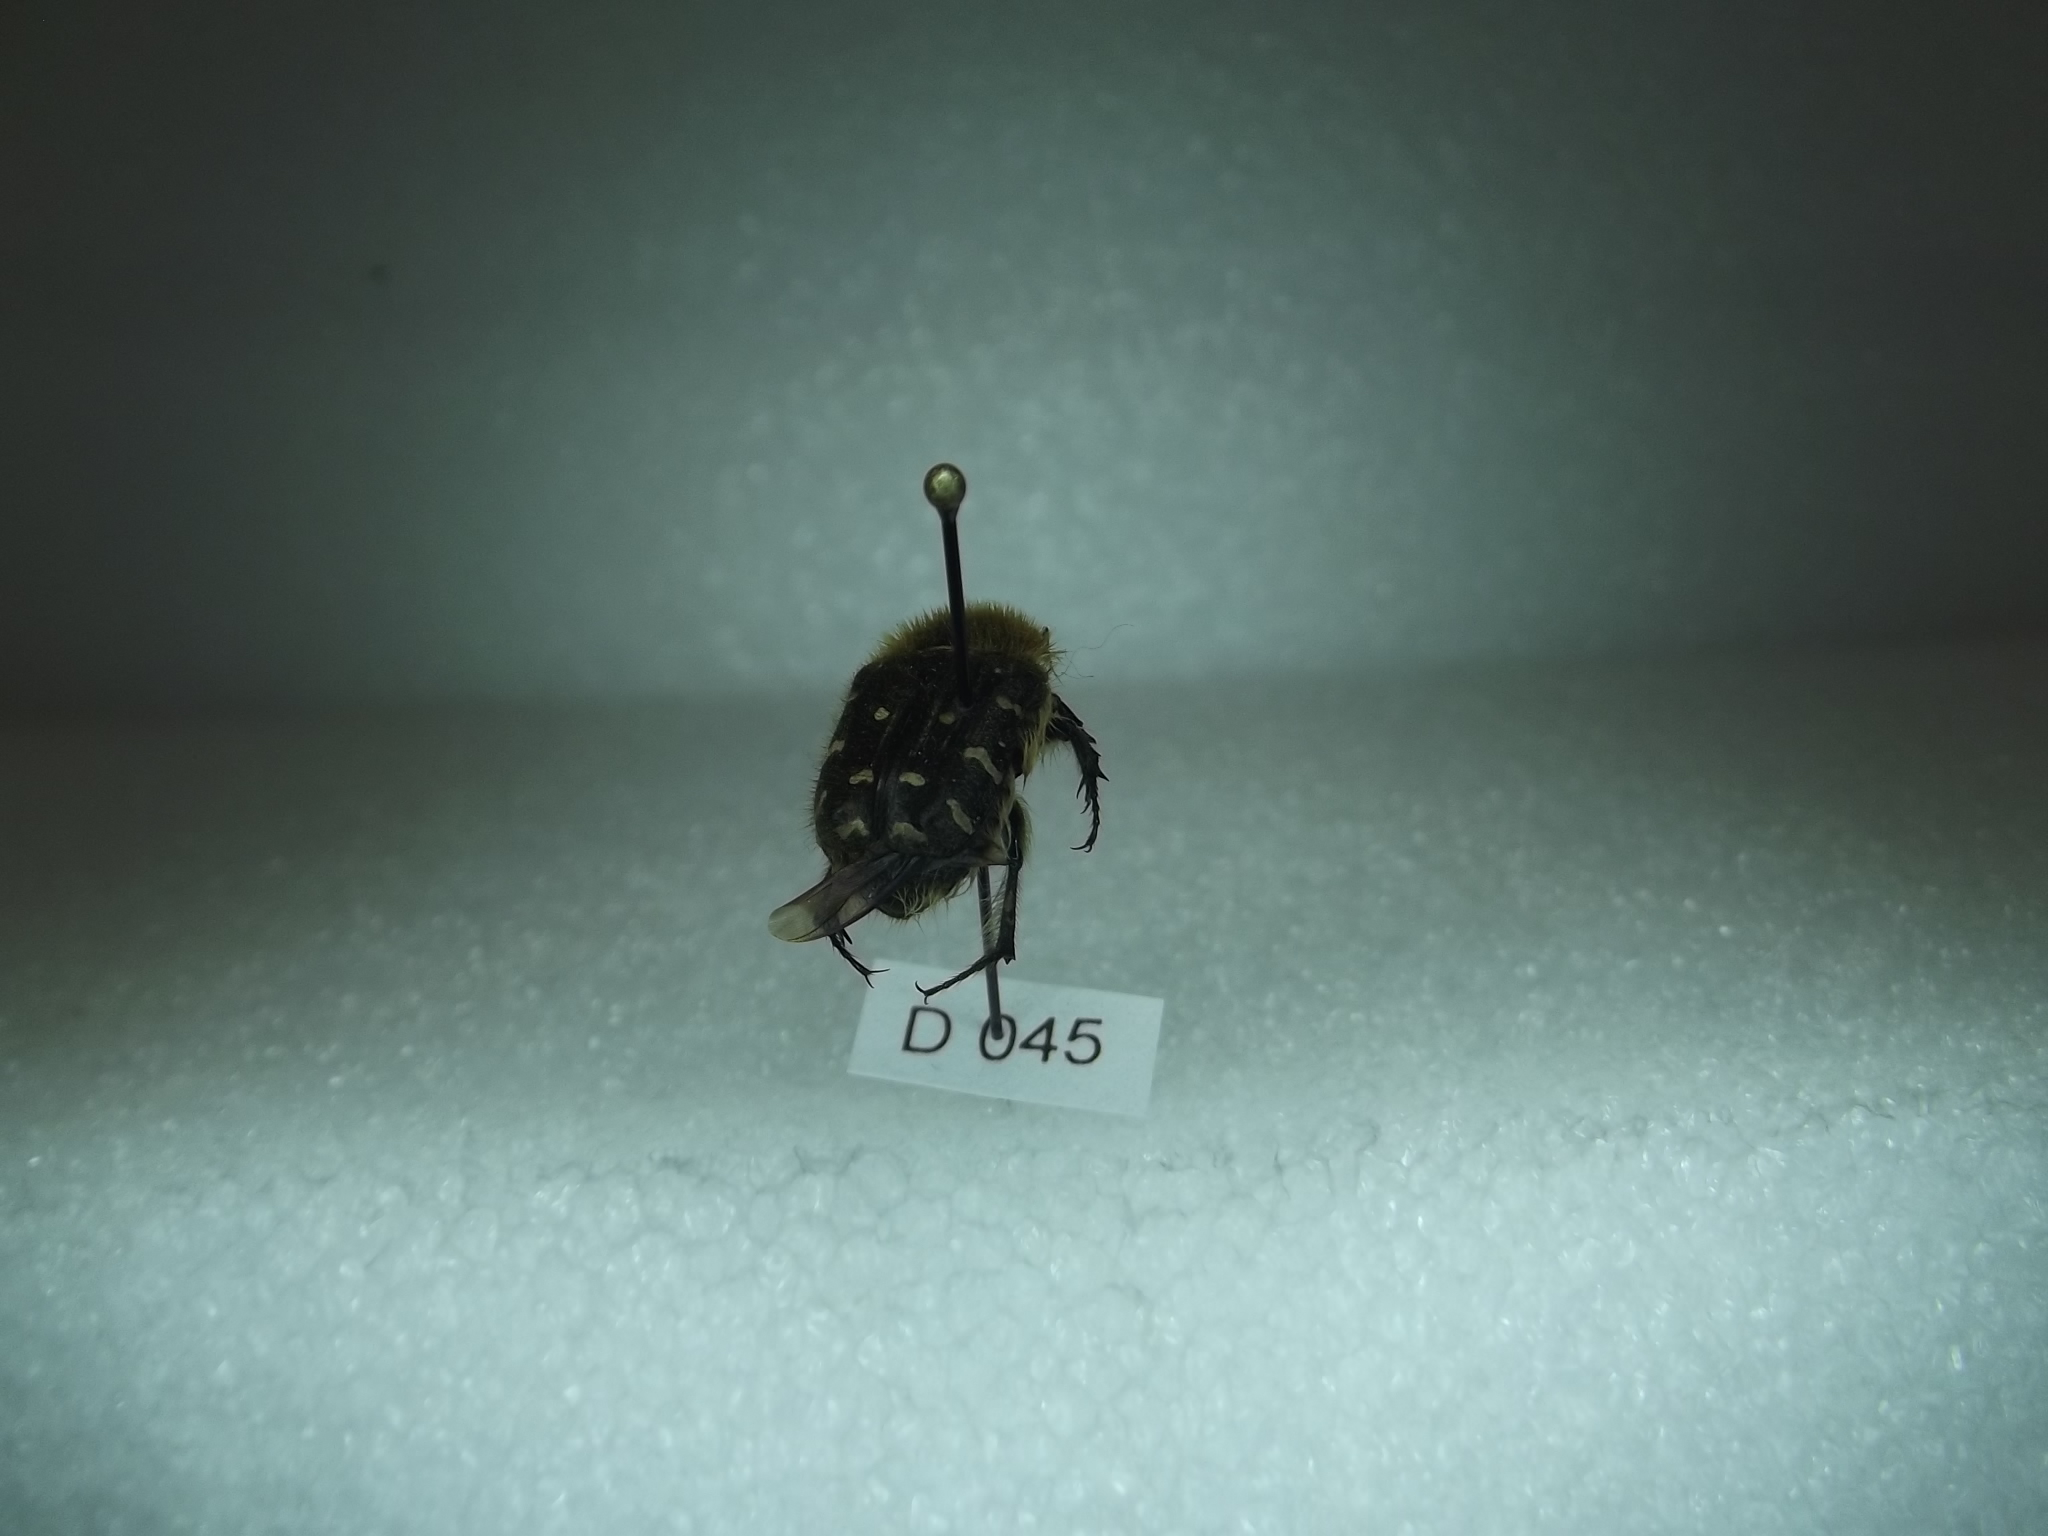Tropinota_hirta: (774, 560, 1195, 1008)
